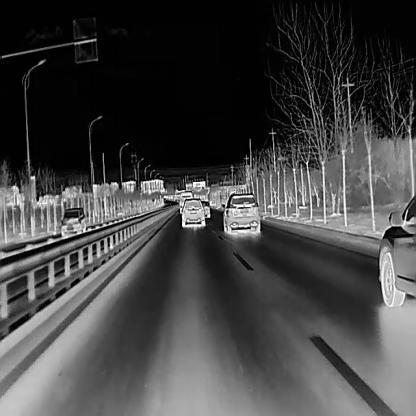car: (377, 190, 416, 306), (221, 191, 260, 232), (60, 205, 86, 239), (178, 196, 205, 227), (178, 189, 193, 212), (200, 200, 210, 217)
